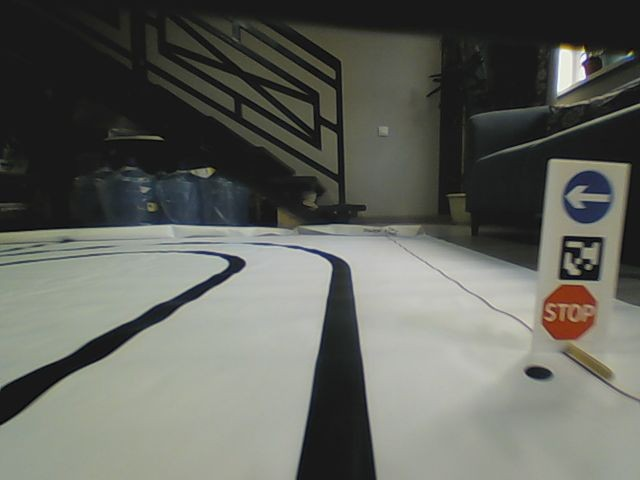Stop: (541, 283, 596, 340)
